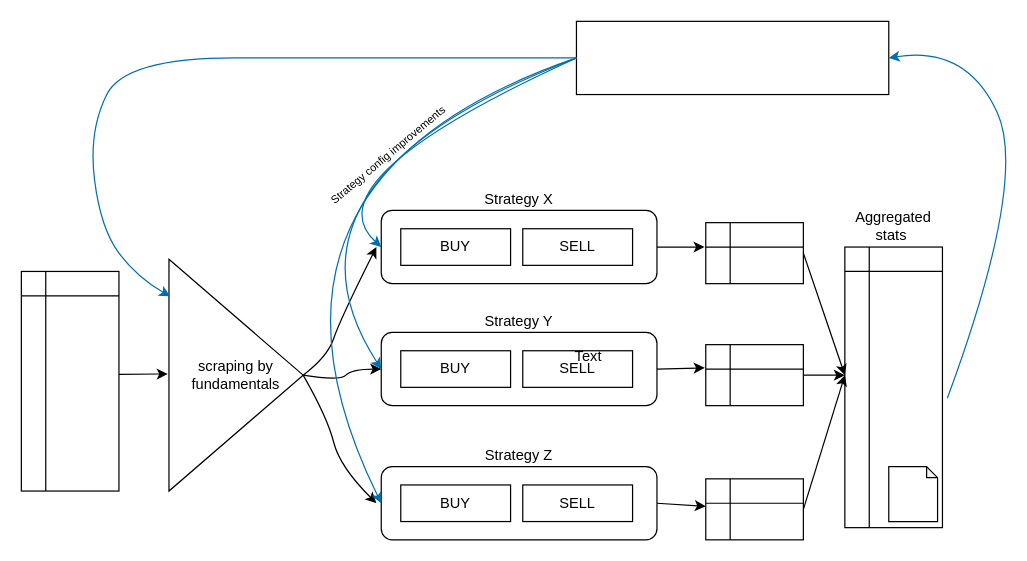
The diagram is 1027 pixels wide and 561 high, and some of its shapes have lost their labels. Here are the shapes that lost their labels. From the top down, the box of each, then its label:
(575, 20, 889, 95): LLM
(705, 221, 803, 284): Statistics X
(20, 270, 119, 491): Data provider (Yhaoo finance / Finviz)
(705, 343, 803, 406): Statictics Y
(705, 478, 803, 540): Statistics Z
(888, 465, 938, 522): reports
